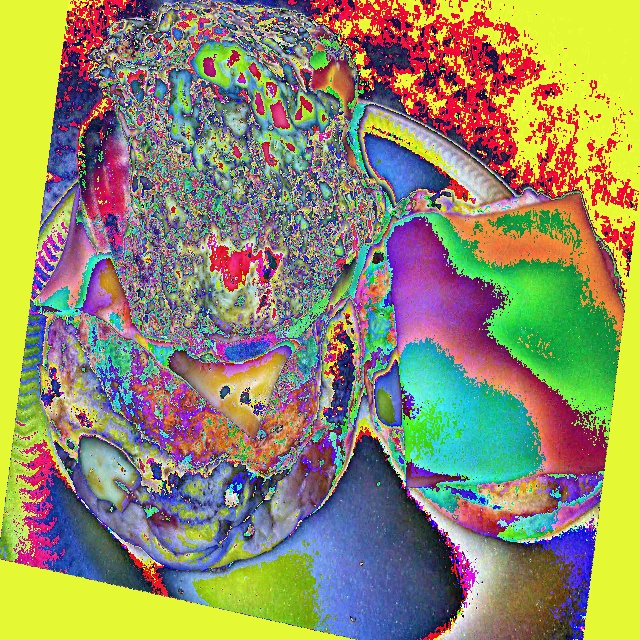background: (33, 0, 624, 571)
